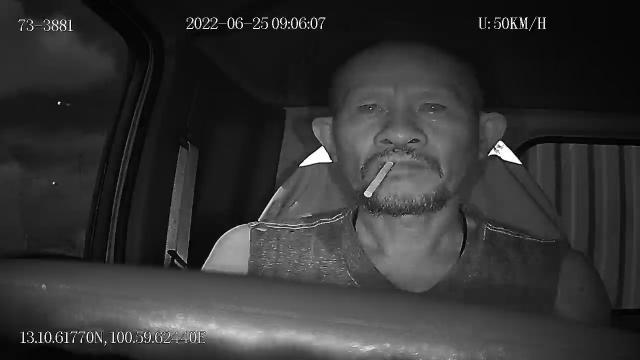SafeDriving: (411, 91, 454, 122), (351, 92, 393, 122)
Smoking: (362, 159, 393, 199)
